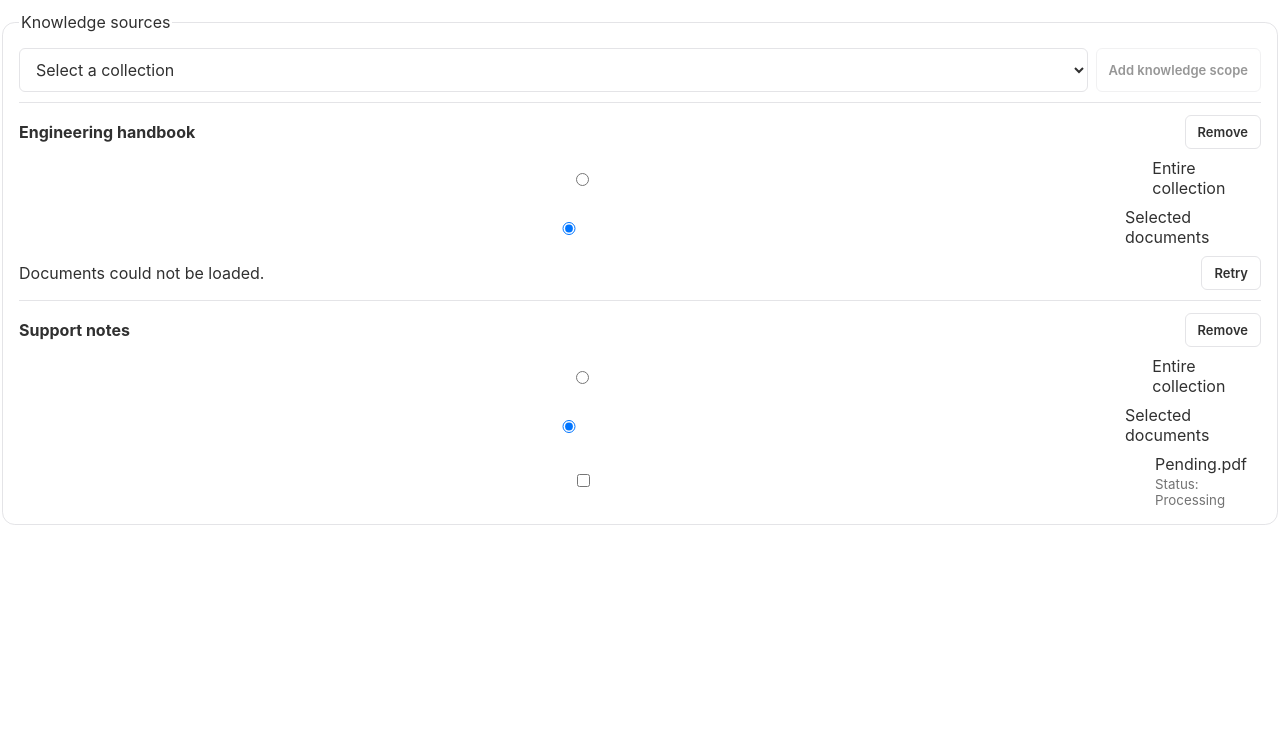
Test: KnowledgeScopeEditor › keeps errors, retries, and empty results isolated per collection
Expected: the message shows "Documents could not be loaded.", [19, 263, 264, 283]
Expected: the text "Pending.pdf" is shown, [1155, 454, 1261, 474]
What coordinates should you click on to do the following:
click the button "Retry"
I would click on:
 (1231, 273)
Its box is [1201, 256, 1261, 290].
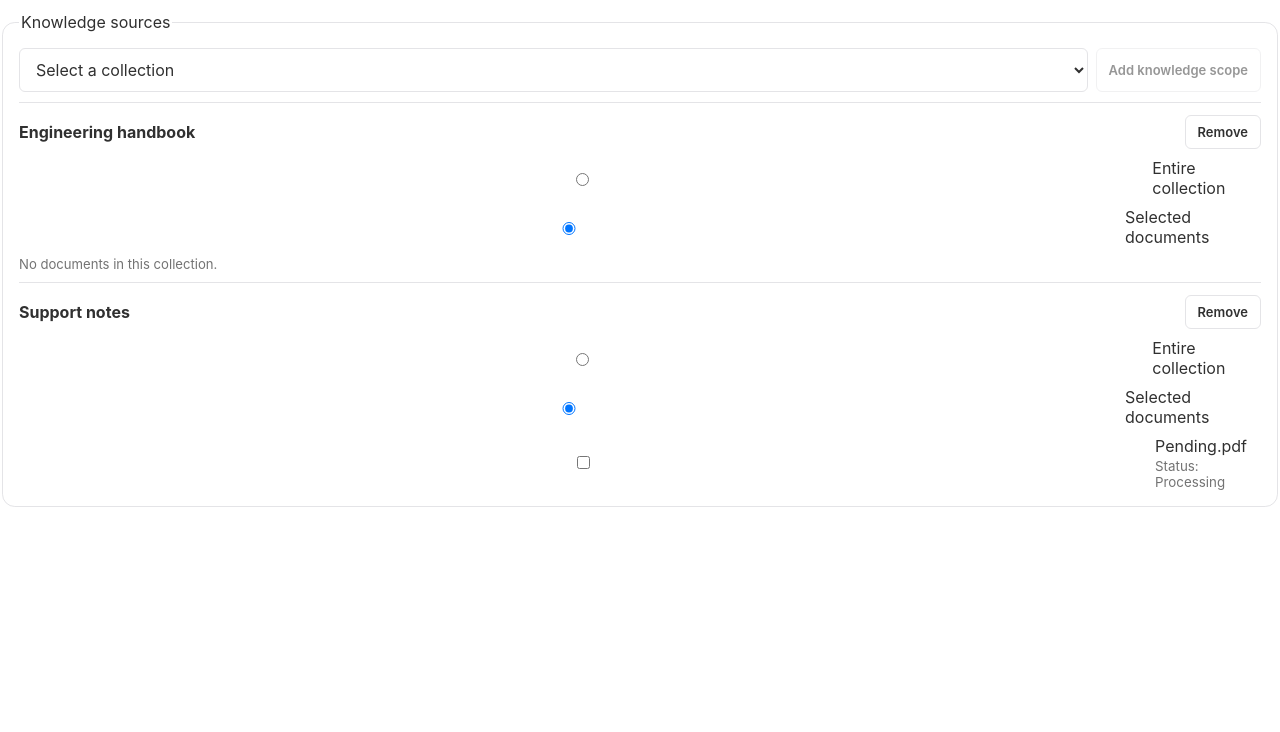
Expected: the text "No documents in this collection." is shown, [19, 256, 217, 272]
